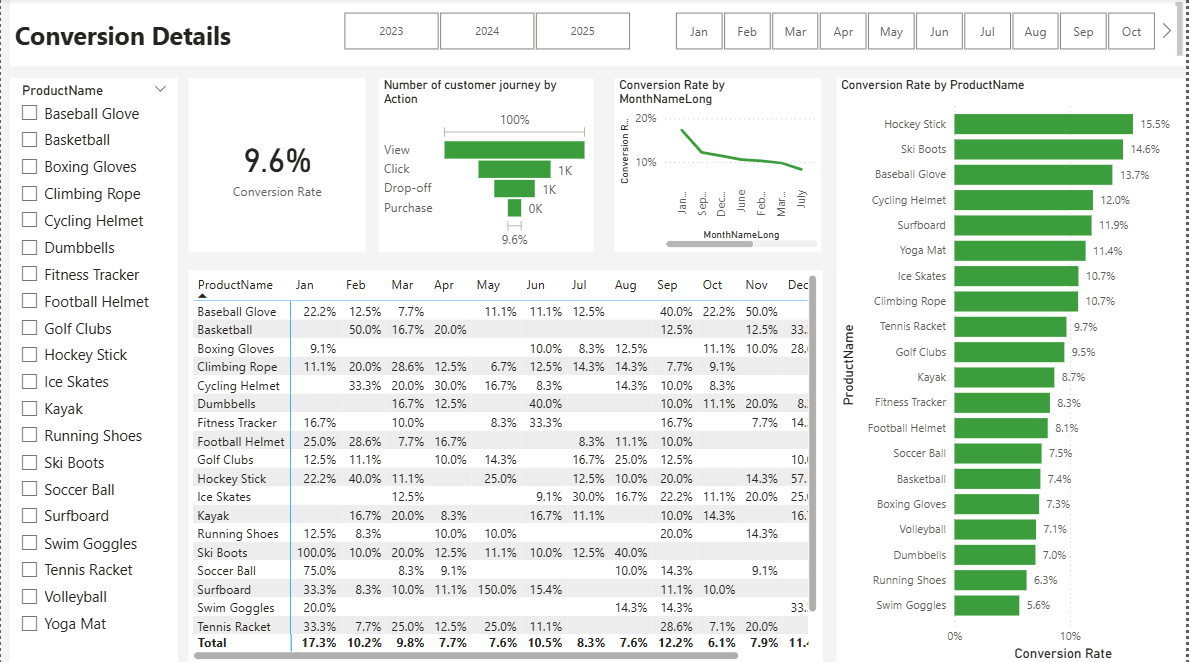

The dashboard page shown, as its layout file describes it:
{"tool":"powerbi","page":{"name":"Conversion  Details","canvas":[1280,720],"ordinal":1},"visuals":[{"type":"textbox","box":[9.7,0,1271.1,74.5],"z":0},{"type":"slicer","fields":{"Values":["dim_products.ProductName"]},"box":[9.7,87.4,181.4,633.1],"z":1000},{"type":"card","fields":{"Values":["_Calculations.Conversion Rate"]},"box":[202.4,87.4,191.1,187.8],"z":2000},{"type":"slicer","fields":{"Values":["Calendar.Year"]},"box":[344.9,9.7,357.8,53.4],"z":3000},{"type":"slicer","fields":{"Values":["Calendar.MonthNameShort"]},"box":[702.7,9.7,566.7,53.4],"z":4000},{"type":"lineChart","fields":{"Category":["Calendar.MonthNameLong"],"Y":["_Calculations.Conversion Rate"]},"box":[662.3,87.4,223.5,187.8],"z":5000},{"type":"clusteredBarChart","fields":{"Category":["dim_products.ProductName"],"Y":["_Calculations.Conversion Rate"]},"box":[901.9,87.4,378.9,633.1],"z":6000},{"type":"pivotTable","fields":{"Values":["_Calculations.Conversion Rate"],"Rows":["dim_products.ProductName"],"Columns":["Calendar.MonthNameShort"]},"box":[202.4,294.7,683.3,425.9],"z":7000},{"type":"funnel","fields":{"Y":["_Calculations.Number of customer journey"],"Category":["fact_customer_journey.Action"]},"box":[408,87.4,231.5,187.8],"z":8000}]}

Visuals, with their boxes in screenshot pixels (x1, y1, x2, y2), scaled from the page's 1280x720 canvas onto the 1189x662 screenshot:
textbox: box=[9, 0, 1188, 68]
slicer - dim_products.ProductName: box=[9, 80, 178, 661]
card - _Calculations.Conversion Rate: box=[188, 80, 366, 253]
slicer - Calendar.Year: box=[320, 9, 653, 58]
slicer - Calendar.MonthNameShort: box=[653, 9, 1179, 58]
lineChart - Calendar.MonthNameLong x _Calculations.Conversion Rate: box=[615, 80, 823, 253]
clusteredBarChart - dim_products.ProductName x _Calculations.Conversion Rate: box=[838, 80, 1188, 661]
pivotTable - _Calculations.Conversion Rate x dim_products.ProductName: box=[188, 271, 823, 661]
funnel - _Calculations.Number of customer journey x fact_customer_journey.Action: box=[379, 80, 594, 253]
